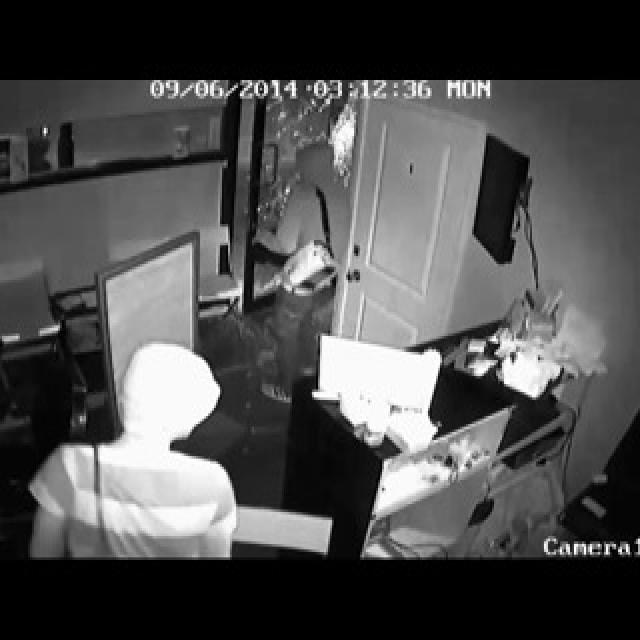thief: (23, 342, 235, 558), (255, 131, 352, 408)
